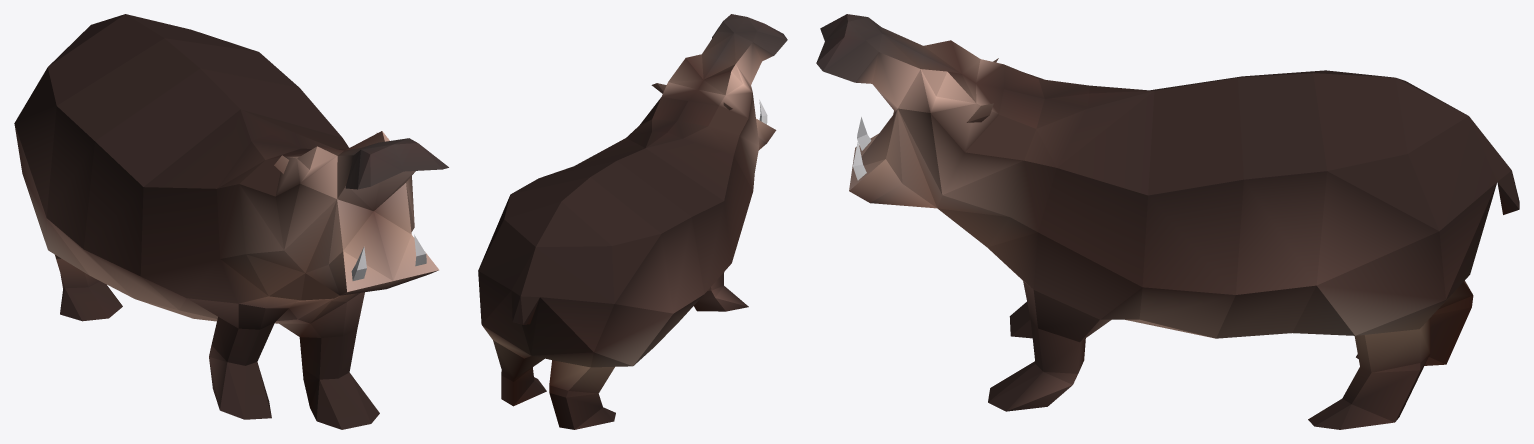
The model's file is hippo.glb.
3 views of the same model, side by side, from view 1: azimuth 30°, elevation 25°; view 2: azimuth 150°, elevation 25°; view 3: azimuth 270°, elevation 25° (orthographic). The views are drawn at different scales.
Parts seen in each view (by area): view 1: Hippo; view 2: Hippo; view 3: Hippo.
Boxes of the visible parts, bbox=[...] form: Hippo: bbox=[14, 14, 448, 429]; Hippo: bbox=[478, 14, 787, 429]; Hippo: bbox=[816, 14, 1519, 429].
Size of the model in its own units: 0.41 by 0.5789 by 1.
